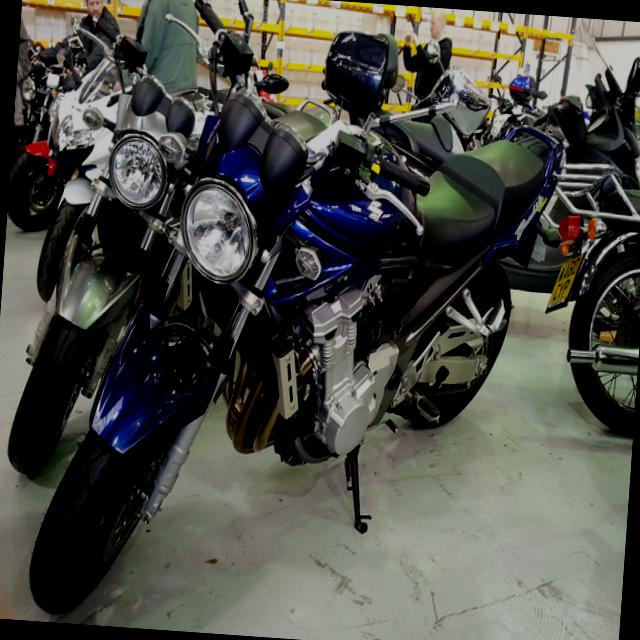Vehicle: (23, 0, 575, 640), (4, 28, 210, 489), (525, 156, 640, 440), (5, 22, 128, 236), (503, 90, 618, 296), (11, 10, 112, 166), (578, 50, 640, 190)
